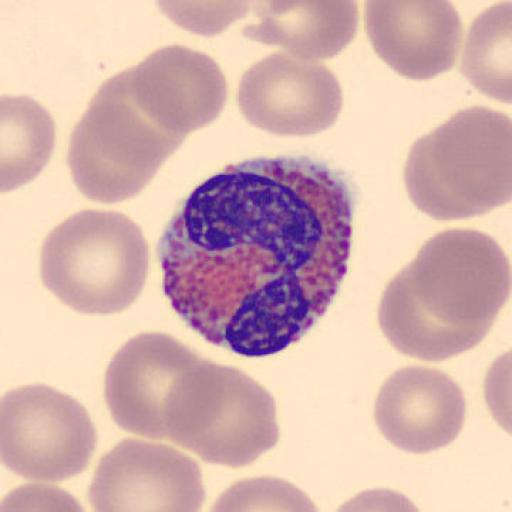RBC: (66, 66, 189, 206), (162, 356, 282, 470), (401, 103, 512, 223), (38, 207, 153, 318), (76, 62, 191, 172), (375, 262, 497, 363), (100, 328, 207, 442), (234, 49, 346, 140), (1, 380, 97, 485), (65, 107, 164, 205), (411, 226, 511, 322), (88, 436, 208, 512), (372, 362, 467, 456), (135, 42, 229, 134), (362, 0, 463, 82), (244, 0, 360, 65), (2, 92, 58, 194), (459, 1, 512, 105), (202, 472, 325, 512), (150, 0, 253, 39), (1, 479, 93, 512), (482, 346, 512, 441), (327, 485, 431, 512)
WBC: (158, 156, 355, 357)
